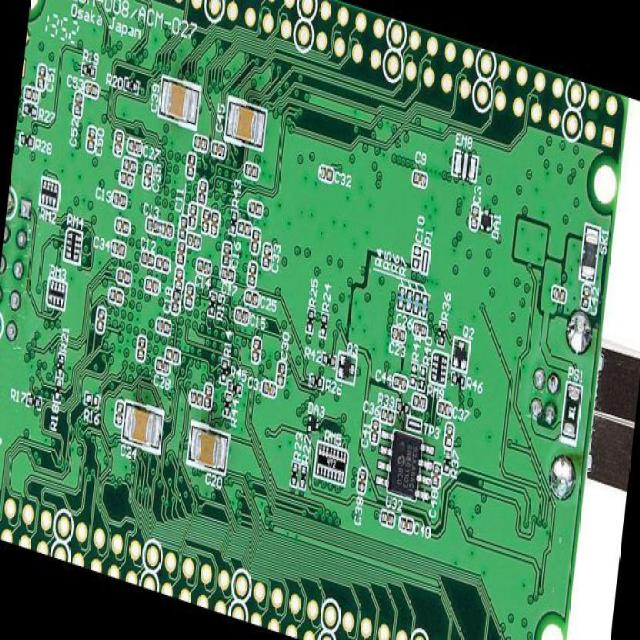Capacitor Jumper: (186, 419, 229, 475), (157, 75, 200, 127), (120, 400, 162, 452), (224, 97, 266, 148), (467, 201, 480, 231), (259, 242, 272, 272), (245, 256, 258, 286), (142, 274, 160, 295), (378, 505, 396, 526), (442, 419, 454, 450), (250, 334, 262, 364), (112, 396, 124, 426), (164, 344, 181, 365), (199, 205, 211, 234), (248, 225, 260, 254), (218, 263, 236, 282), (202, 379, 213, 410), (317, 162, 334, 182), (117, 168, 134, 188), (110, 189, 127, 209), (153, 252, 170, 272), (192, 131, 208, 152), (242, 159, 258, 180), (112, 128, 124, 156), (274, 358, 286, 386), (158, 218, 174, 238), (242, 286, 258, 306), (154, 316, 170, 336), (85, 125, 96, 154), (175, 237, 186, 266), (580, 282, 591, 310), (185, 150, 196, 178), (187, 200, 198, 228), (183, 280, 194, 308), (95, 306, 106, 334), (368, 415, 379, 443), (356, 466, 367, 494), (185, 230, 201, 249), (110, 236, 125, 256), (233, 304, 248, 324), (379, 404, 394, 424), (188, 388, 203, 408), (411, 168, 427, 186), (550, 283, 566, 301), (236, 217, 252, 235), (113, 216, 129, 234), (194, 257, 210, 275), (390, 324, 406, 342), (139, 249, 155, 267), (391, 372, 407, 390), (107, 286, 123, 304), (154, 356, 170, 374), (72, 90, 83, 116), (177, 213, 188, 239), (220, 241, 231, 267), (247, 198, 262, 217), (261, 378, 276, 397), (36, 62, 46, 90), (142, 160, 152, 188), (136, 333, 146, 361), (430, 460, 440, 488), (23, 85, 39, 102), (121, 155, 137, 172), (412, 320, 428, 337), (210, 140, 225, 158), (197, 177, 207, 204), (116, 266, 131, 284), (84, 79, 98, 98), (127, 136, 141, 155), (438, 399, 452, 418), (399, 514, 413, 533), (173, 264, 184, 288), (145, 216, 159, 234), (411, 392, 426, 408), (171, 290, 180, 312)
Connector: (34, 0, 622, 156), (0, 481, 560, 639), (20, 24, 34, 87)
Diode: (477, 202, 493, 232), (306, 411, 320, 434)
Electrolytic Capacitor: (208, 208, 219, 235)
IC: (372, 422, 436, 502)
Pads: (450, 148, 478, 181), (82, 386, 100, 407), (410, 242, 422, 271)
Pins: (0, 180, 36, 356), (525, 358, 563, 434), (543, 444, 579, 510), (560, 302, 595, 357)
Resistor: (288, 455, 300, 486), (416, 361, 427, 391), (317, 308, 328, 337), (297, 460, 307, 491), (123, 74, 139, 93), (320, 349, 336, 368), (436, 318, 446, 347), (21, 100, 37, 118), (408, 360, 418, 388), (394, 397, 410, 414), (80, 61, 95, 79), (228, 208, 238, 235), (396, 283, 406, 309), (304, 307, 314, 333), (218, 356, 228, 382), (412, 288, 421, 316), (222, 391, 231, 418), (18, 131, 33, 147), (308, 372, 323, 388), (25, 392, 40, 408), (419, 292, 428, 318), (53, 374, 62, 400), (450, 372, 464, 388), (227, 378, 241, 394), (207, 288, 215, 315), (442, 449, 450, 474), (405, 286, 413, 310), (56, 352, 64, 376)
Resistor Network: (312, 440, 348, 486), (62, 226, 82, 265), (428, 348, 448, 385), (45, 275, 67, 308), (38, 176, 59, 209)
Test Point: (420, 246, 430, 274), (406, 414, 422, 431)
Transistor: (336, 349, 356, 384), (451, 336, 469, 371)
